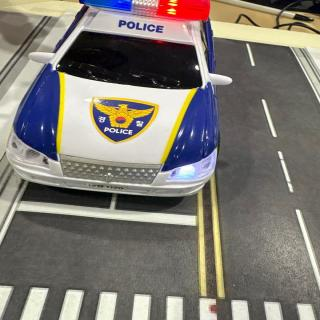Police_car: (8, 0, 232, 196)
